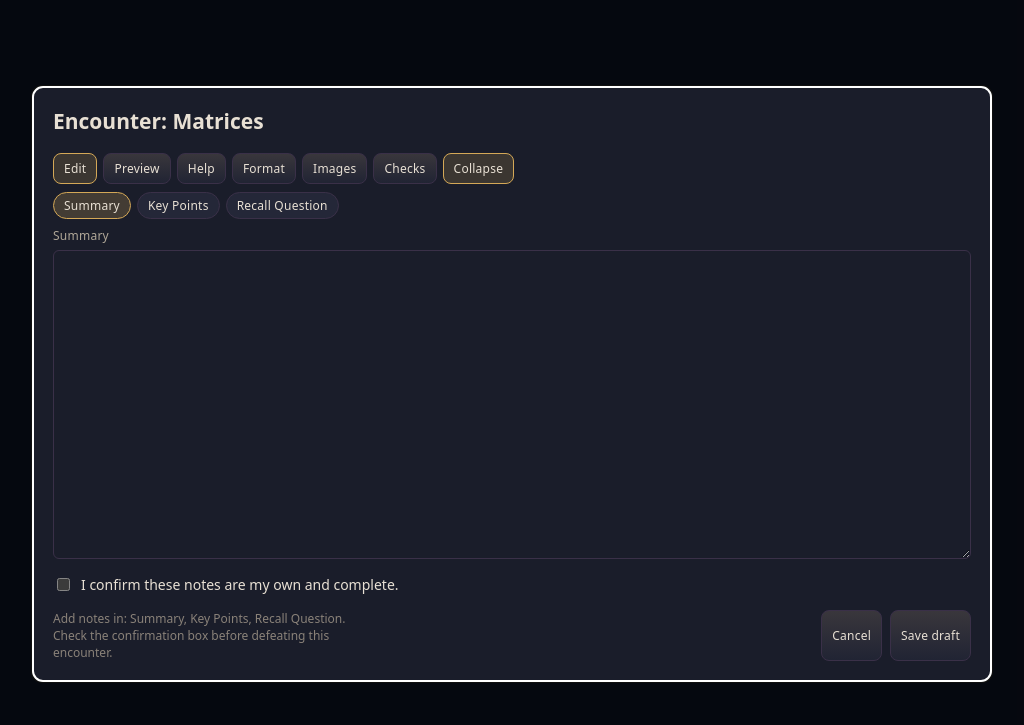
the rollback build › still seeds the three required headings and the neutral checklist
This screenshot has width=1024, height=725.
Expected: the element named "Note sections" shows "Summary", [53, 192, 131, 219]
Expected: the element named "Note sections" shows "Key Points", [137, 192, 220, 219]
Click the button "Checks".
click(405, 168)  # box [373, 152, 436, 184]
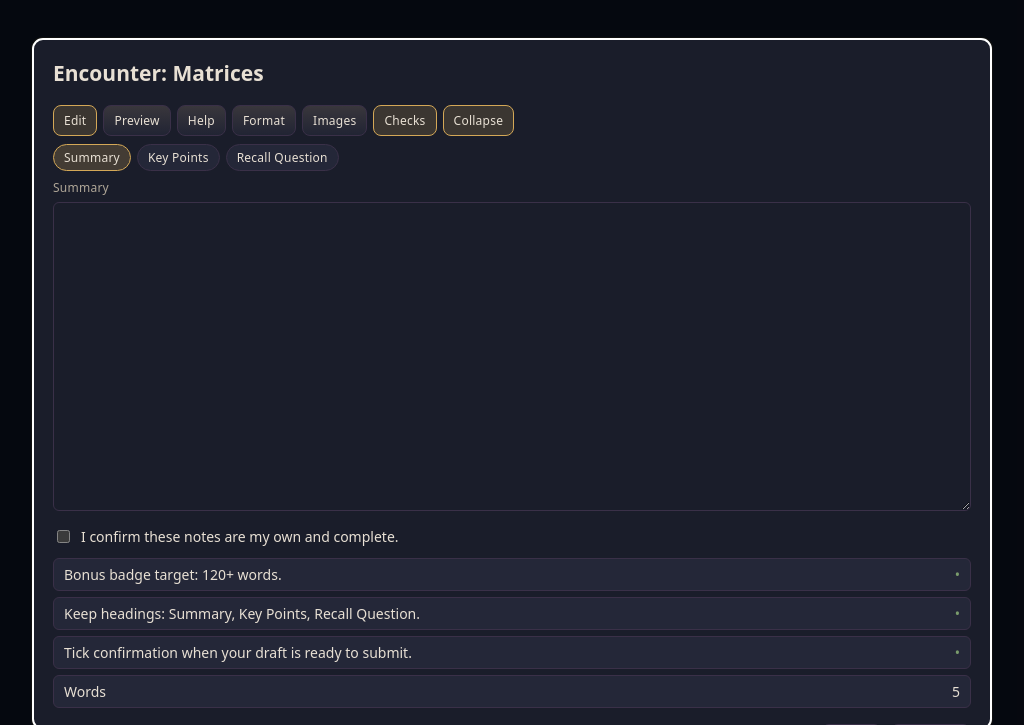
Now the text "Keep headings: Summary, Key Points, Recall Question." is shown, box [64, 604, 420, 623]
